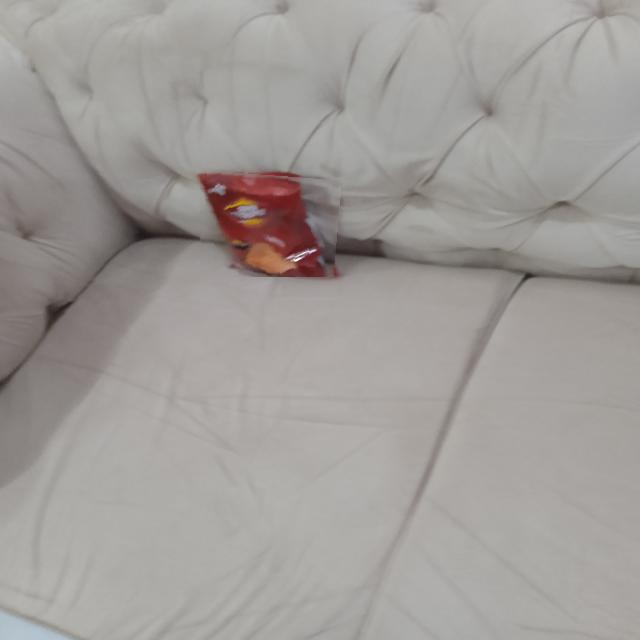Plastic: (200, 170, 342, 277)
